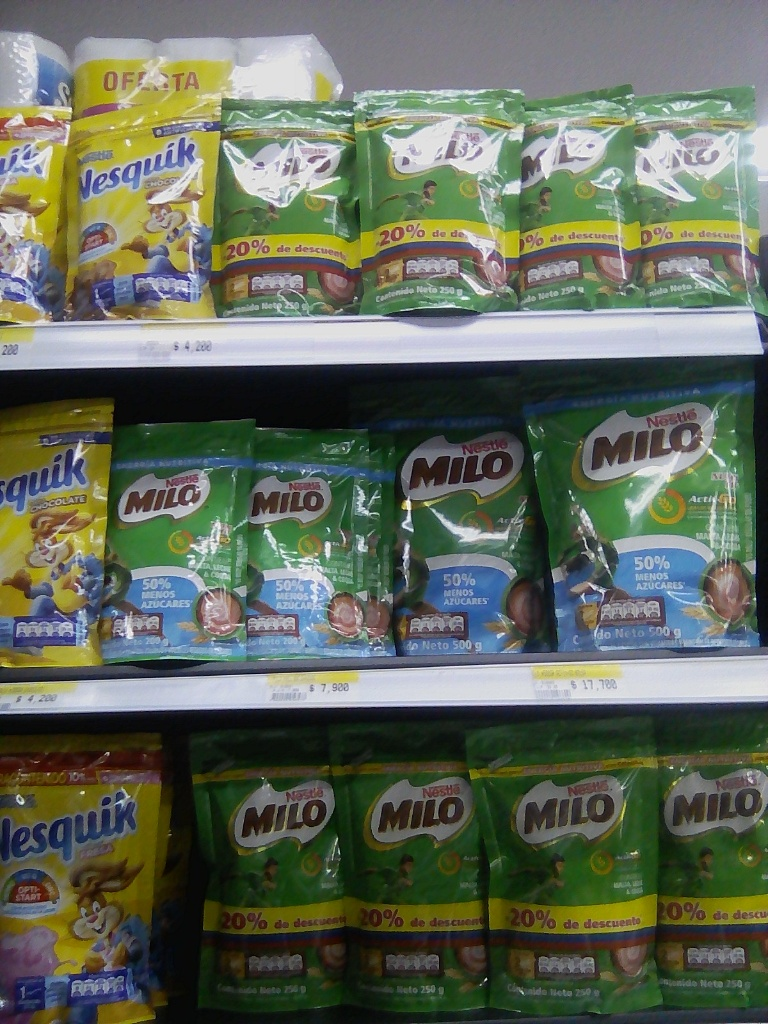COL0170203DYP25000: (211, 96, 356, 325)
COL0170205DYP20000: (100, 423, 251, 658)
COL0170205DYP50000: (372, 382, 553, 654)
COL0170303DYP20000: (3, 396, 111, 668)
